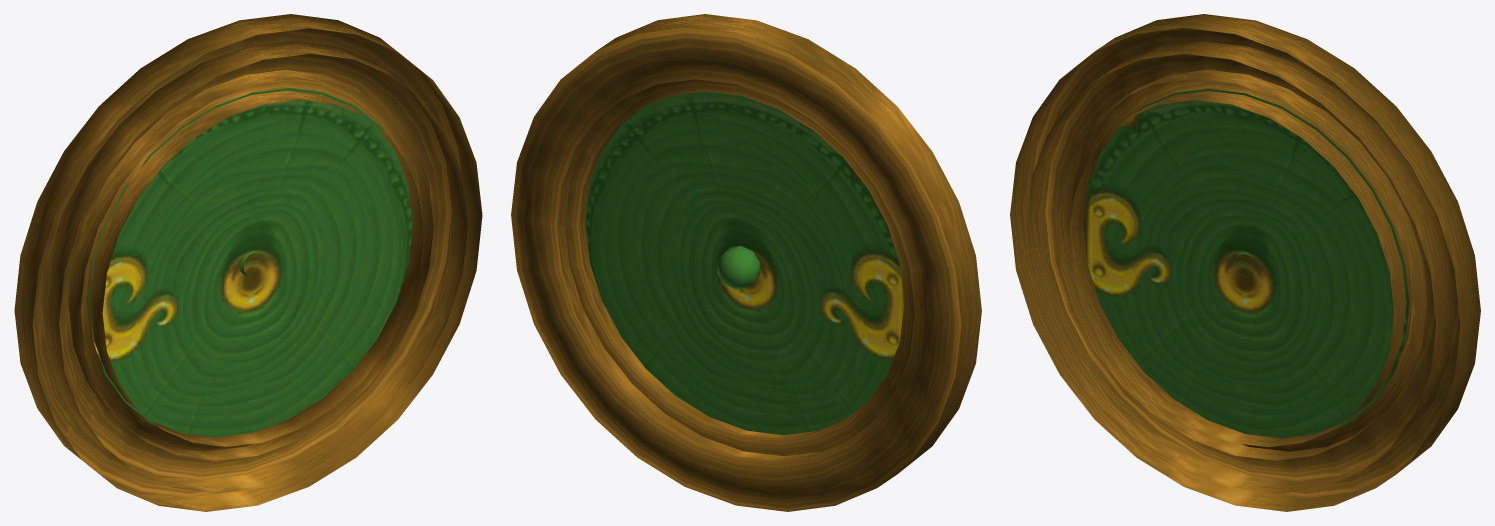
Rendered from INST_HTOWN_DOOR.obj.
3 views of the same model, side by side, from view 1: azimuth 30°, elevation 25°; view 2: azimuth 150°, elevation 25°; view 3: azimuth 330°, elevation 25° (orthographic).
Parts seen in each view (by area): view 1: st_Door_Lod1_01; view 2: st_Door_Lod1_01; view 3: st_Door_Lod1_01.
Boxes of the visible parts, <box> form: st_Door_Lod1_01: <box>14,14,482,511</box>; st_Door_Lod1_01: <box>511,14,981,511</box>; st_Door_Lod1_01: <box>1010,14,1480,511</box>.
Bounding box in the file's own units: 195 × 195 × 24.71.
